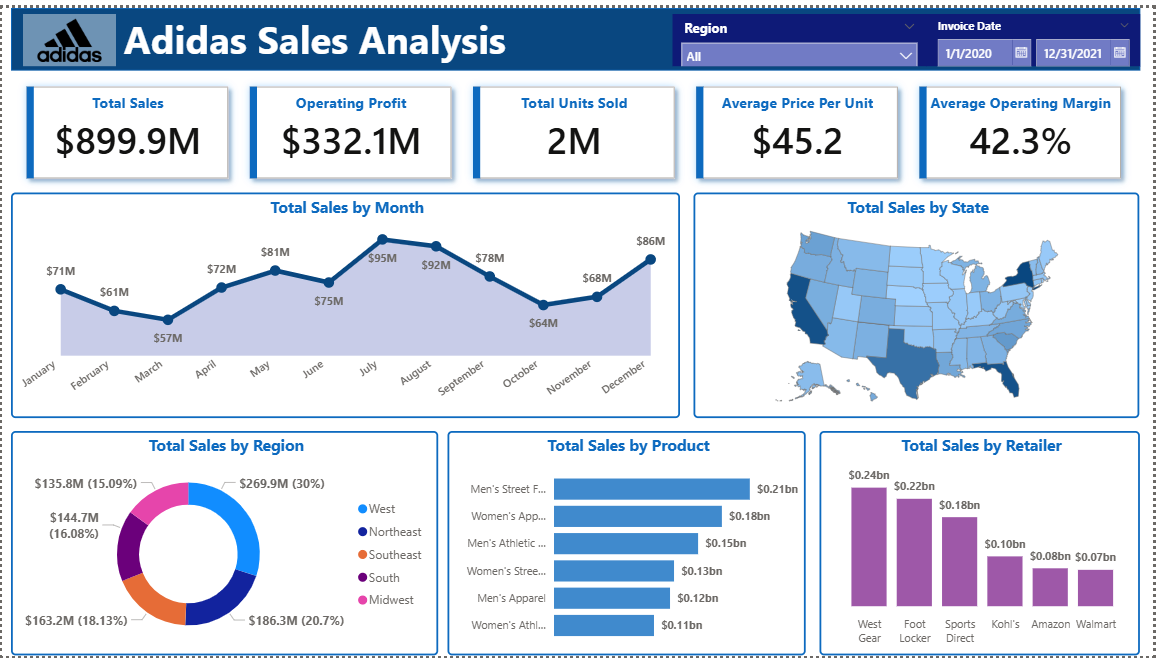

What the dashboard file says about the page in this screenshot:
{"tool":"powerbi","page":{"name":"Page 1","canvas":[1280,720],"ordinal":0},"visuals":[{"type":"shape","box":[9.7,0,1254.9,69.6],"z":0},{"type":"textbox","box":[126.3,0,442,69.6],"z":1000},{"type":"cardVisual","fields":{"Data":["Sum(Data Sales Adidas.Total Sales)","Sum(Data Sales Adidas.Operating Profit)","Sum(Data Sales Adidas.Units Sold)","Avg(Data Sales Adidas.Price per Unit)","Avg(Data Sales Adidas.Operating Margin)"]},"box":[9.7,69.6,1254.9,136],"z":2000},{"type":"areaChart","title":"Total Sales by Month","fields":{"Y":["Sum(Data Sales Adidas.Total Sales)"],"Category":["Data Sales Adidas.Invoice Date.Variation.Date Hierarchy.Month"]},"box":[9.7,205.6,743.2,251],"z":3000},{"type":"shapeMap","title":"Total Sales by State","fields":{"Category":["Data Sales Adidas.State"],"Value":["Sum(Data Sales Adidas.Total Sales)"]},"box":[769.1,205.6,495.5,251],"z":4000},{"type":"donutChart","fields":{"Y":["Sum(Data Sales Adidas.Total Sales)"],"Category":["Data Sales Adidas.Region"]},"box":[9.7,469.6,474.4,249.4],"z":5000},{"type":"clusteredBarChart","fields":{"Category":["Data Sales Adidas.Product"],"Y":["Sum(Data Sales Adidas.Total Sales)"]},"box":[495.5,469.6,398.3,249.4],"z":6000},{"type":"clusteredColumnChart","fields":{"Category":["Data Sales Adidas.Retailer"],"Y":["Sum(Data Sales Adidas.Total Sales)"]},"box":[908.4,469.6,356.2,249.4],"z":7000},{"type":"image","box":[22.7,6.5,103.6,58.3],"z":8000},{"type":"slicer","fields":{"Values":["Data Sales Adidas.Region"]},"box":[744.8,6.5,281.7,58.3],"z":9000},{"type":"slicer","fields":{"Values":["Data Sales Adidas.Invoice Date"]},"box":[1026.6,6.5,238,58.3],"z":10000}]}

Visuals, with their boxes in screenshot pixels (x1, y1, x2, y2), scaled from the page's 1280x720 canvas onto the 1156x658 screenshot:
shape: (9,0,1142,64)
textbox: (114,0,513,64)
cardVisual - Sum(Data Sales Adidas.Total Sales) x Sum(Data Sales Adidas.Operating Profit): (9,64,1142,188)
"Total Sales by Month" areaChart: (9,188,680,417)
"Total Sales by State" shapeMap: (695,188,1142,417)
donutChart - Sum(Data Sales Adidas.Total Sales) x Data Sales Adidas.Region: (9,429,437,657)
clusteredBarChart - Data Sales Adidas.Product x Sum(Data Sales Adidas.Total Sales): (447,429,807,657)
clusteredColumnChart - Data Sales Adidas.Retailer x Sum(Data Sales Adidas.Total Sales): (820,429,1142,657)
image: (21,6,114,59)
slicer - Data Sales Adidas.Region: (673,6,927,59)
slicer - Data Sales Adidas.Invoice Date: (927,6,1142,59)
